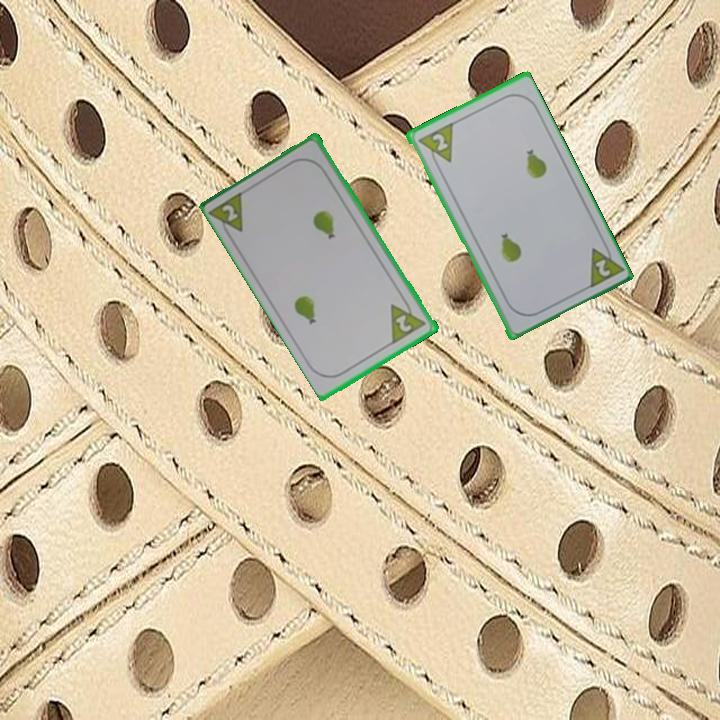2p: (207, 187, 248, 243), (413, 119, 456, 171), (583, 238, 625, 291), (387, 294, 429, 346)
